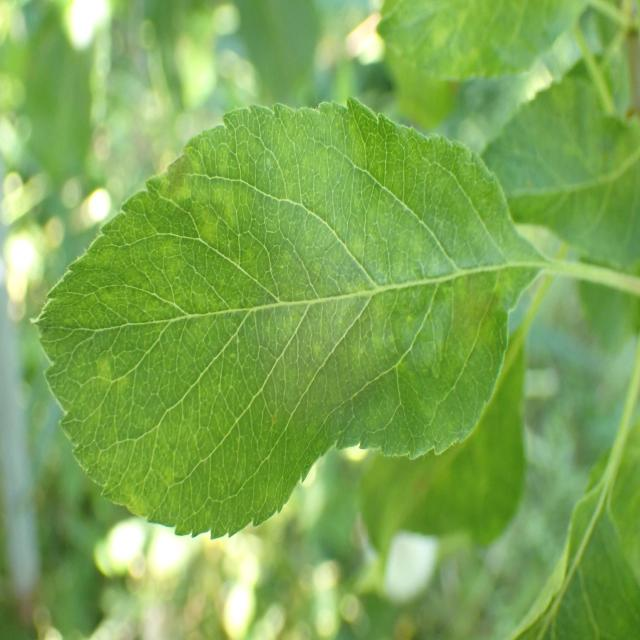scab: (91, 140, 538, 486)
